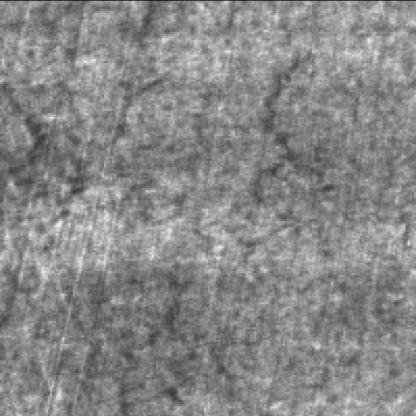crazing: (237, 25, 360, 268), (33, 274, 239, 416), (6, 21, 138, 239)
